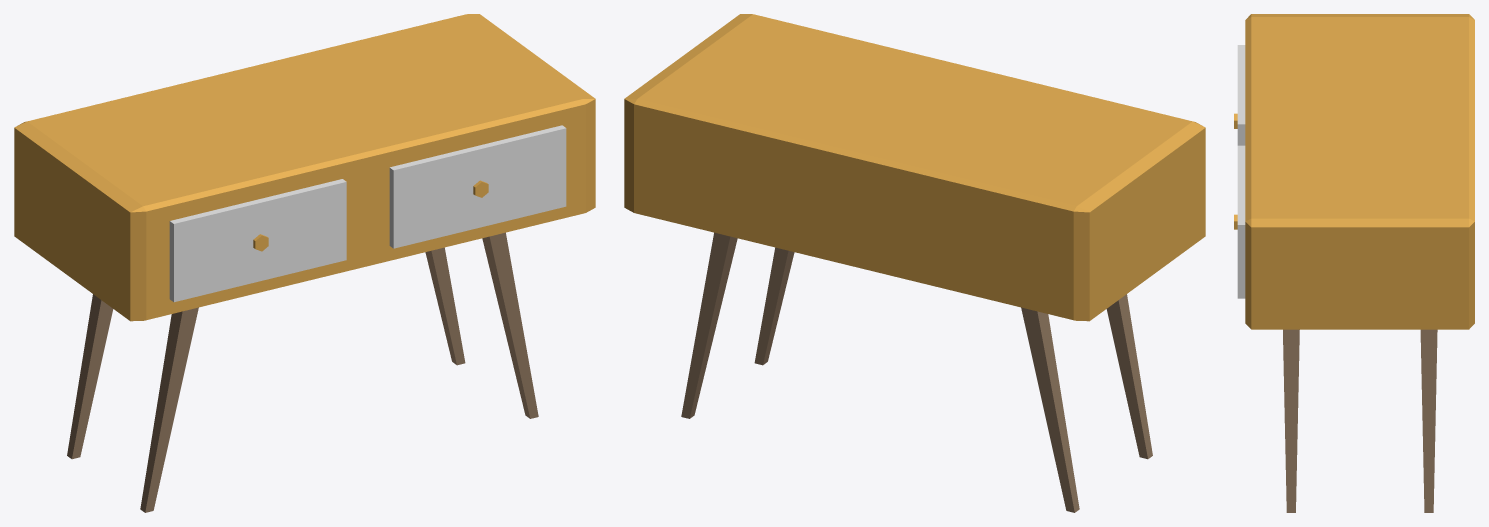
Rendered from Drawer.fbx.
3 views of the same model, side by side, from view 1: azimuth 30°, elevation 25°; view 2: azimuth 150°, elevation 25°; view 3: azimuth 270°, elevation 25° (orthographic). The views are drawn at different scales.
Parts seen in each view (by area): view 1: Drawer; view 2: Drawer; view 3: Drawer.
Boxes of the visible parts, x1=… form: Drawer: x1=14, y1=14, x2=595, y2=512; Drawer: x1=624, y1=14, x2=1205, y2=512; Drawer: x1=1234, y1=14, x2=1474, y2=512.
Bounding box in the file's own units: 165 × 110 × 78.72.
